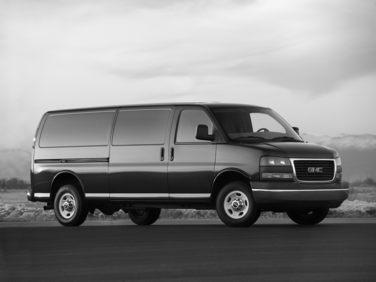car: (29, 99, 354, 227)
